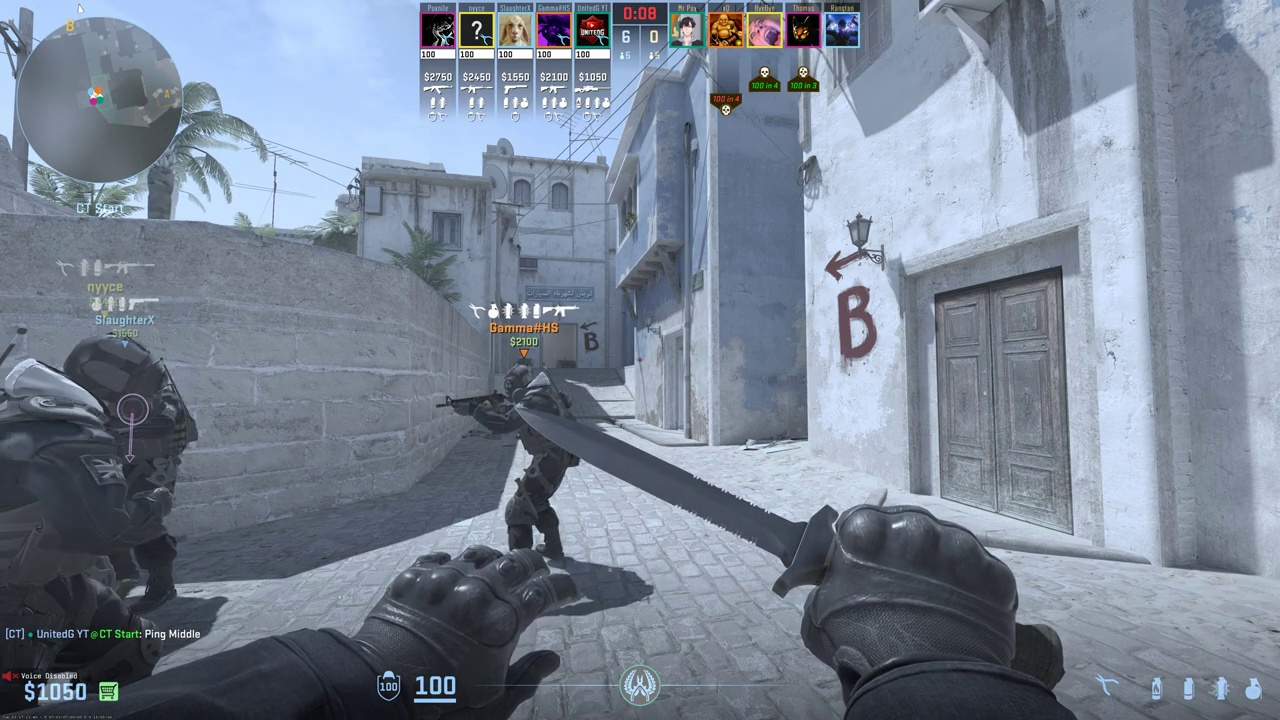CT: (5, 335, 183, 711), (493, 366, 581, 563)
